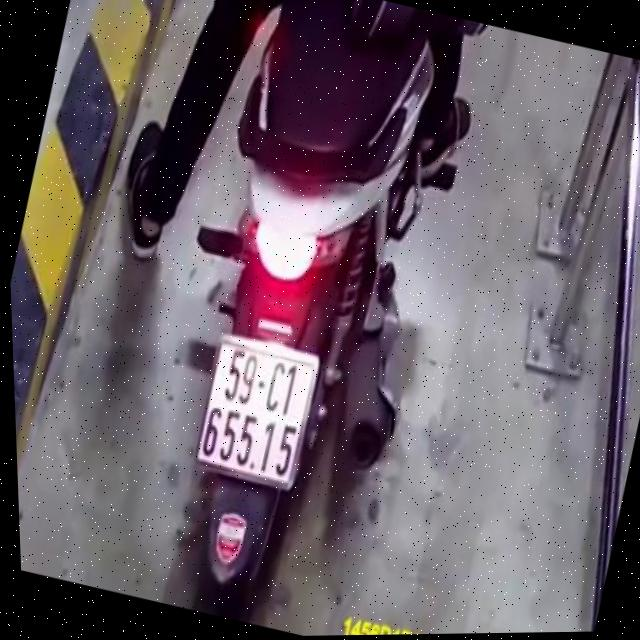motorcycle: (98, 0, 496, 639)
plate: (183, 330, 328, 492)
